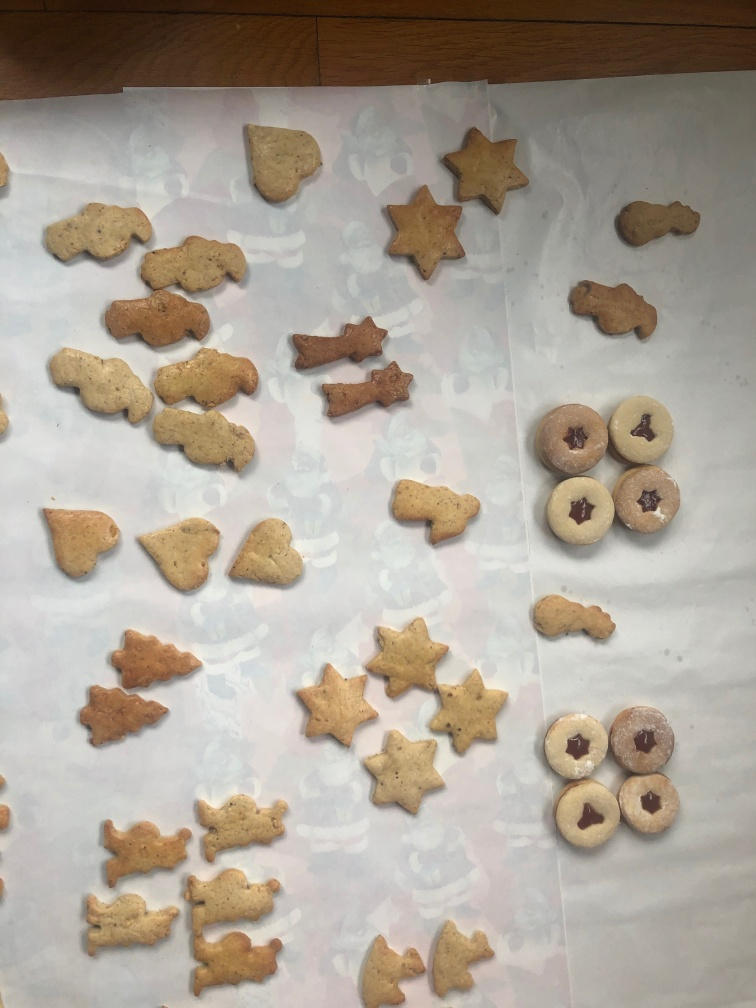angel: (385, 468, 482, 549)
christmas shortbread with jam: (553, 775, 625, 860), (607, 392, 678, 472), (533, 400, 608, 474), (542, 474, 615, 550), (615, 466, 691, 538), (541, 705, 611, 783), (608, 701, 677, 774), (618, 768, 683, 835)
christmas tree: (103, 624, 210, 693), (77, 682, 170, 752)
heart: (29, 494, 129, 587), (232, 117, 334, 205), (131, 512, 222, 596), (230, 516, 309, 595)
lamb: (426, 908, 497, 1004), (348, 928, 428, 1007)
santa claus: (44, 343, 155, 438), (146, 401, 263, 482), (149, 335, 262, 417), (37, 196, 156, 273), (96, 278, 212, 354), (72, 885, 183, 963), (182, 926, 286, 1006), (93, 811, 199, 886), (138, 234, 258, 299), (177, 864, 285, 936), (189, 791, 292, 863), (563, 276, 660, 351)
shooting star: (287, 310, 391, 375), (318, 362, 418, 427)
snowman: (613, 193, 704, 252), (526, 590, 620, 645)
star: (439, 122, 537, 221), (378, 182, 468, 283), (292, 661, 378, 756), (361, 728, 447, 820), (360, 612, 459, 689), (426, 666, 510, 755)
